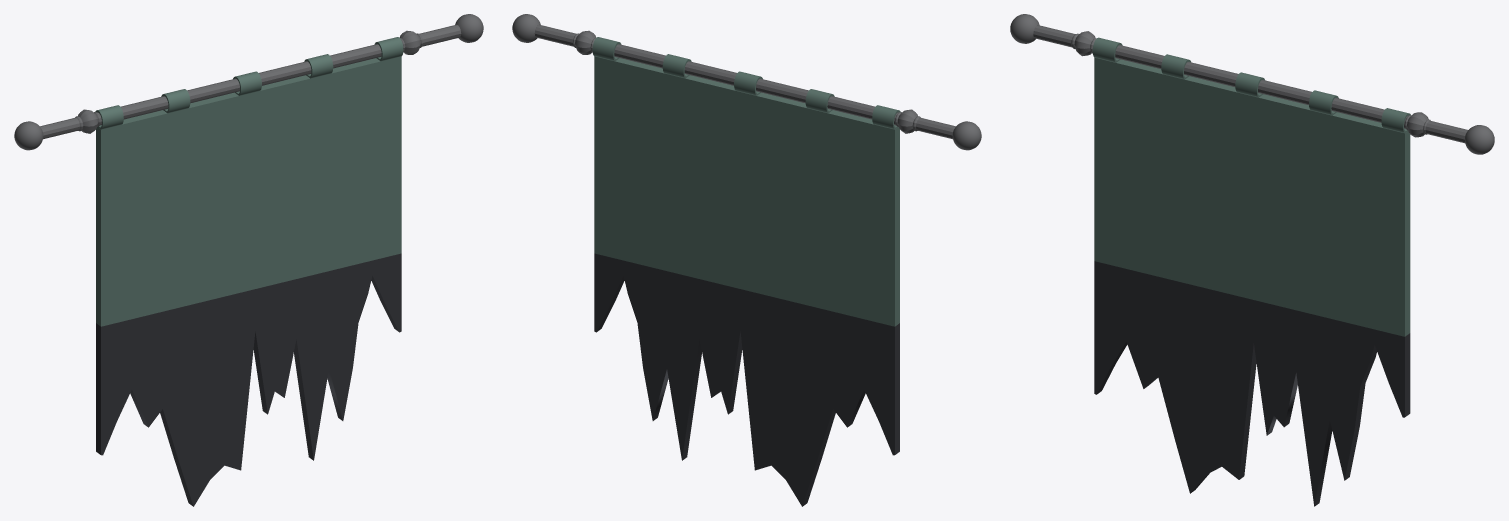
Rendered from bannerTorn.fbx.
3 renders of one model, left to right at view 1: azimuth 30°, elevation 25°; view 2: azimuth 150°, elevation 25°; view 3: azimuth 330°, elevation 25°, orthographic. The views are drawn at different scales.
Visible parts, largest first — view 1: banner, bannerStand, standEnd02, standEnd01; view 2: banner, bannerStand, standEnd02, standEnd01; view 3: banner, bannerStand, standEnd01, standEnd02.
Part boxes in pixels (x1=…): banner: x1=96, y1=56, x2=401, y2=506; bannerStand: x1=40, y1=24, x2=461, y2=139; standEnd02: x1=14, y1=121, x2=43, y2=150; standEnd01: x1=455, y1=14, x2=483, y2=42; banner: x1=594, y1=56, x2=899, y2=506; bannerStand: x1=534, y1=24, x2=955, y2=139; standEnd02: x1=952, y1=121, x2=981, y2=150; standEnd01: x1=512, y1=14, x2=540, y2=42; banner: x1=1094, y1=57, x2=1410, y2=506; bannerStand: x1=1033, y1=25, x2=1467, y2=143; standEnd01: x1=1464, y1=125, x2=1494, y2=154; standEnd02: x1=1010, y1=14, x2=1039, y2=43.
Bounding box in the file's own units: 633 × 548 × 34.22.
